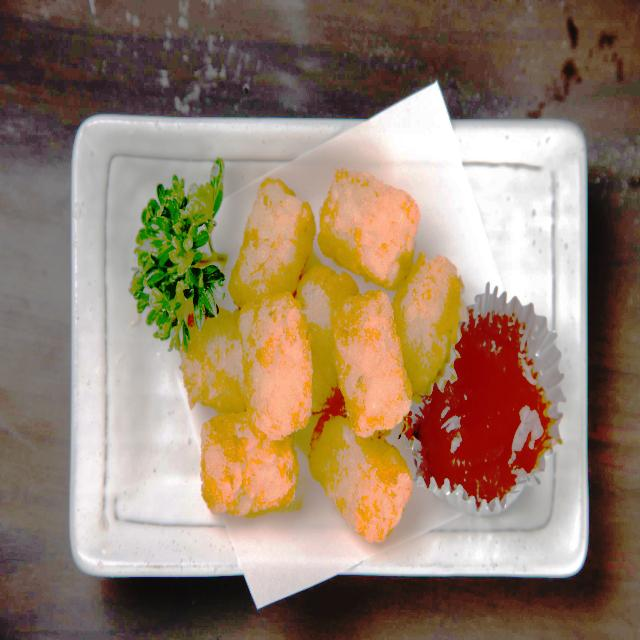ketchup: (424, 296, 560, 511)
